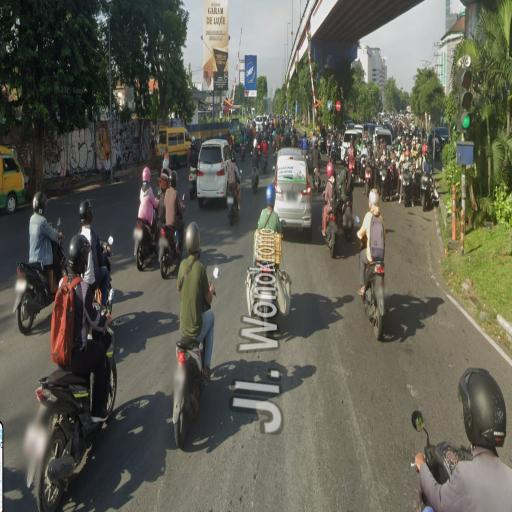Helmet: (459, 369, 506, 449), (69, 234, 91, 274), (186, 223, 200, 255), (33, 192, 47, 215), (80, 200, 92, 225), (266, 183, 275, 208), (369, 189, 379, 208), (170, 171, 177, 188), (327, 162, 334, 178), (143, 167, 150, 183), (163, 155, 169, 169), (231, 151, 236, 162), (405, 149, 409, 157), (254, 139, 257, 149), (314, 141, 317, 148), (192, 136, 195, 142), (219, 132, 222, 138), (231, 128, 234, 134), (293, 128, 296, 134), (304, 131, 306, 137), (287, 130, 289, 135), (313, 131, 315, 135)
Motor: (25, 370, 102, 511), (13, 239, 67, 334), (246, 230, 291, 336), (412, 411, 472, 485), (173, 337, 205, 448), (362, 261, 386, 340), (159, 224, 183, 278), (100, 236, 115, 314), (134, 219, 156, 271), (325, 204, 340, 258), (227, 184, 238, 225), (342, 200, 353, 241), (401, 167, 412, 207), (421, 172, 431, 211), (379, 166, 390, 200), (189, 168, 197, 199), (414, 169, 421, 204), (360, 155, 366, 192), (364, 166, 371, 195), (355, 152, 361, 180), (313, 168, 320, 192), (252, 167, 258, 194), (348, 157, 355, 180), (331, 141, 337, 164), (262, 154, 267, 174), (241, 143, 246, 161), (257, 144, 261, 161)
